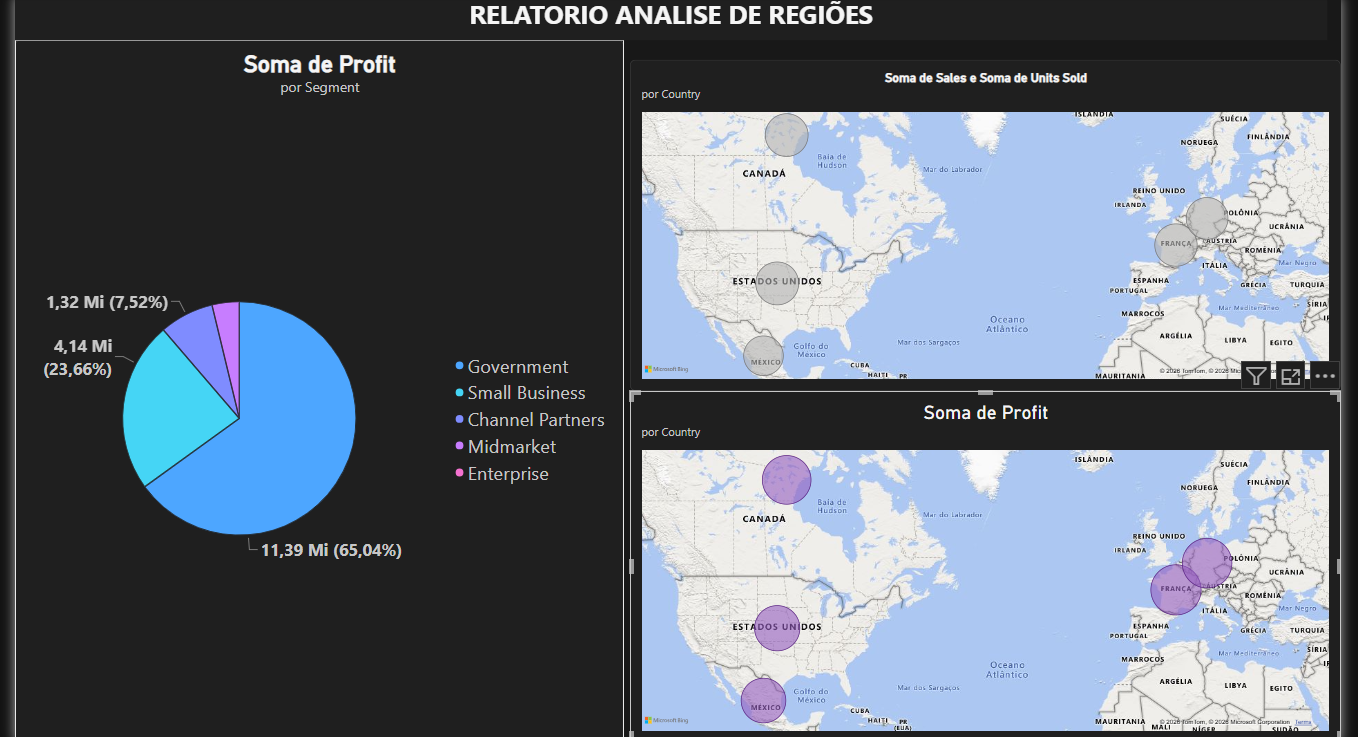

What the dashboard file says about the page in this screenshot:
{"tool":"powerbi","page":{"name":"MEU RELATORIO","canvas":[1920,1080],"ordinal":2},"visuals":[{"type":"pieChart","fields":{"Category":["financials.Segment"],"Y":["Sum(financials.Profit)"]},"box":[0,63.8,881,1016.8],"z":0},{"type":"map","fields":{"Category":["financials.Country"],"Size":["Sum(financials. Sales)"]},"box":[891.3,92.6,1029.2,479.6],"z":1},{"type":"map","fields":{"Category":["financials.Country"],"Size":["Sum(financials.Profit)"]},"box":[891.3,572.2,1029.2,508.4],"z":2},{"type":"textbox","box":[0,0,1899.8,63.8],"z":3}]}

Visuals, with their boxes on the page's 1920x1080 design canvas (x1, y1, x2, y2). These are canvas units, not pixel positions in the 1358x737 screenshot, which may show the page scaled, cropped or inside an application window:
pieChart - financials.Segment x Sum(financials.Profit): 0:64:881:1081
map - financials.Country x Sum(financials. Sales): 891:93:1920:572
map - financials.Country x Sum(financials.Profit): 891:572:1920:1081
textbox: 0:0:1900:64
